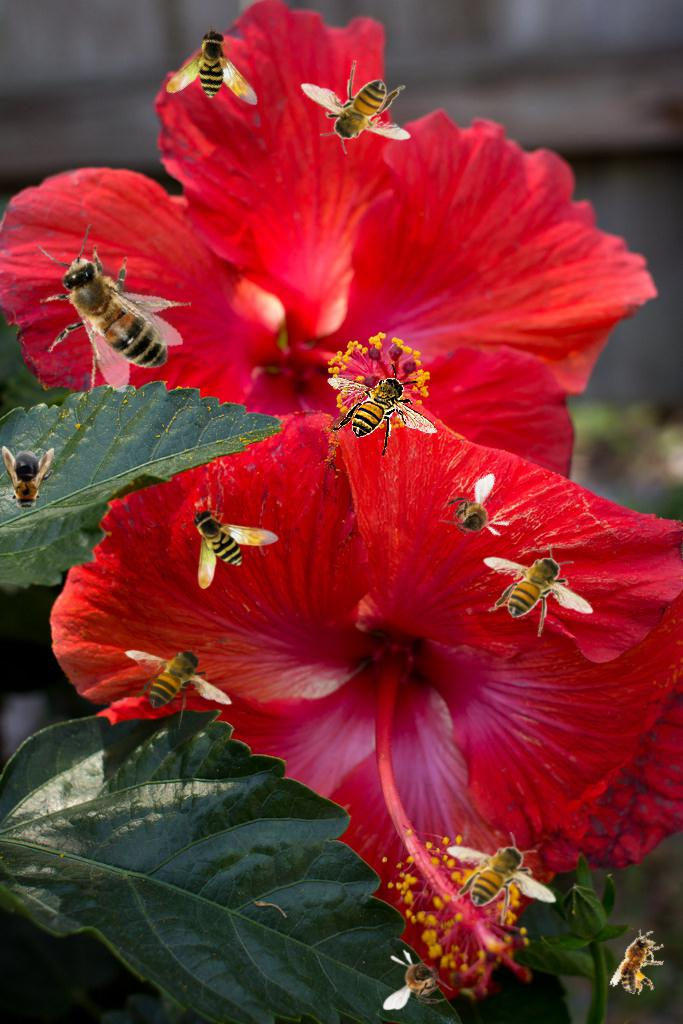Bee: (9, 214, 204, 412), (157, 22, 279, 142), (327, 363, 438, 457), (483, 543, 594, 637), (446, 832, 557, 926), (300, 60, 411, 154), (123, 635, 234, 729), (429, 472, 520, 558), (191, 507, 279, 589), (608, 923, 672, 1000), (383, 949, 453, 1010), (2, 446, 54, 514)
